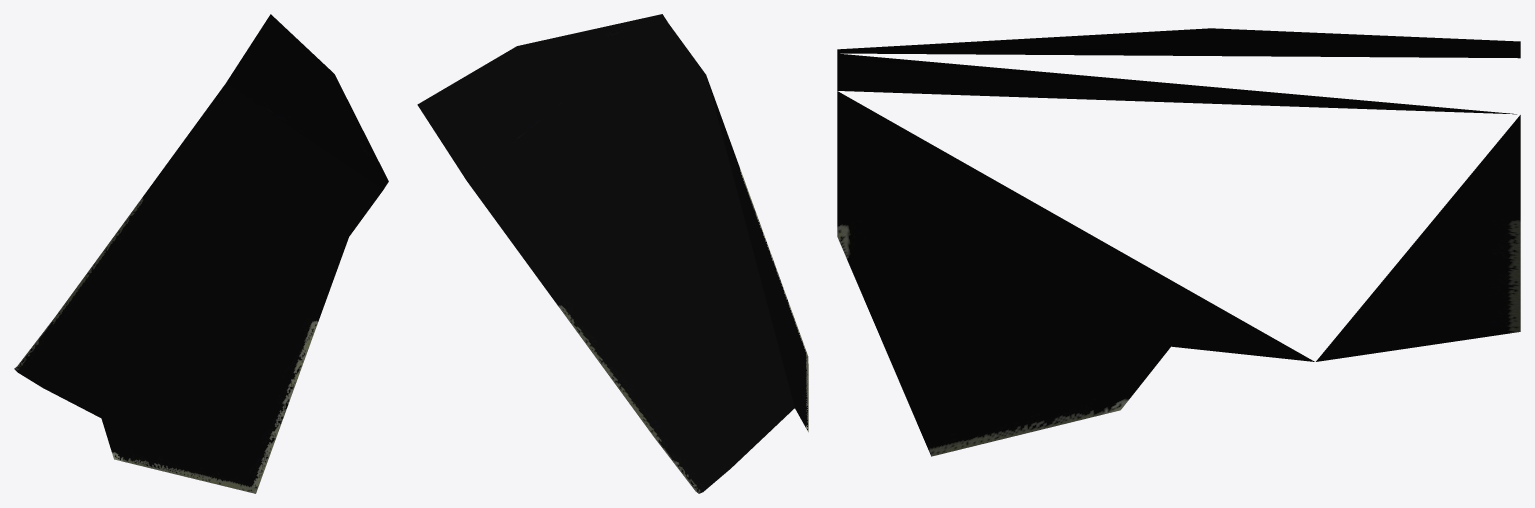
3 views of the same model, side by side, from view 1: azimuth 30°, elevation 25°; view 2: azimuth 150°, elevation 25°; view 3: azimuth 270°, elevation 25° (orthographic). The views are drawn at different scales.
Bounding box in the file's own units: 5.12 × 5.9 × 5.9.
Materials: 3 (3 with a texture image).
